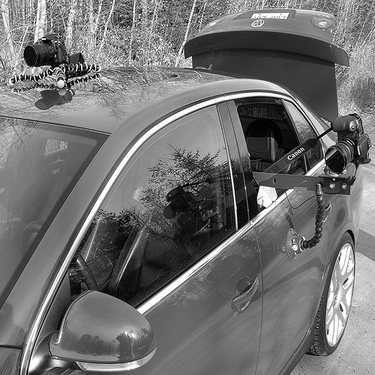car: (7, 8, 371, 373)
